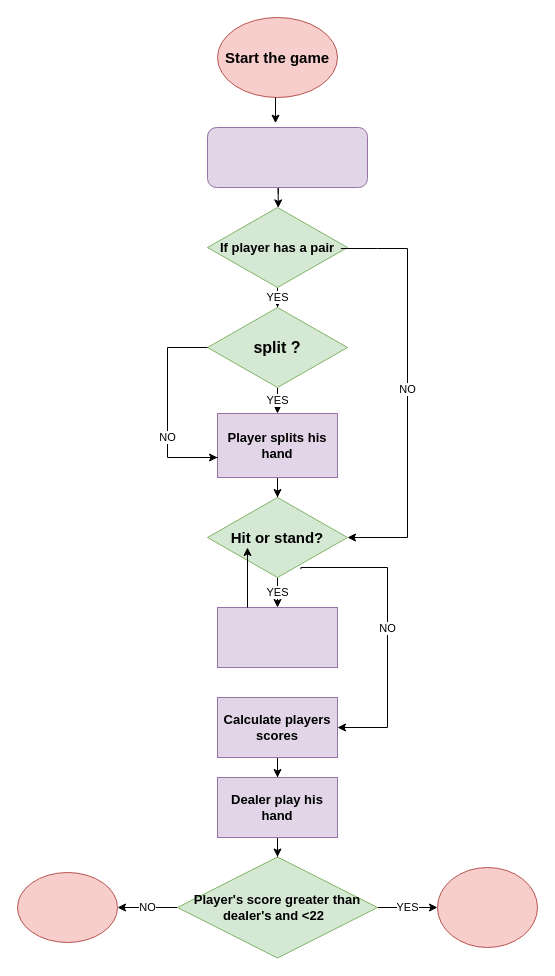
This 555x976 diagram has some shape labels left out. Each missing label, with the centre of its shape:
"Dealer show his first card/ players bet and get first 2 cards" belongs at [287,157].
"Draws a new card" belongs at [277,637].
"Lose" belongs at [67,907].
"Win" belongs at [487,907].
